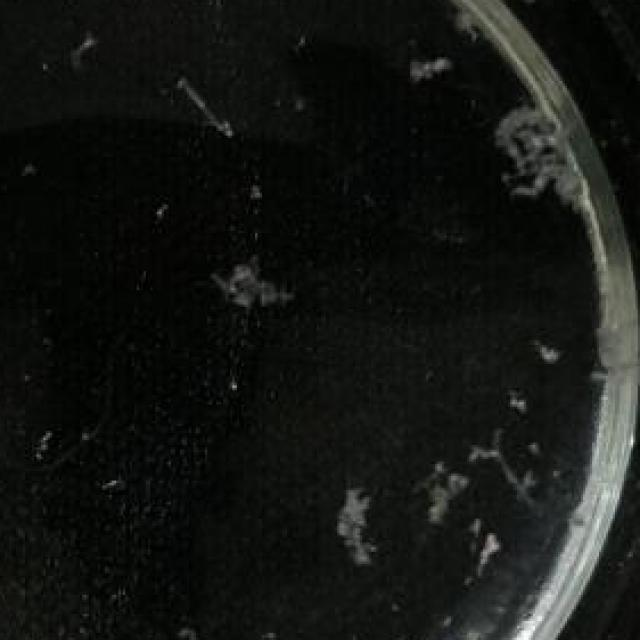Microplastic: (488, 85, 592, 224), (203, 238, 280, 340), (405, 455, 474, 559), (332, 464, 376, 599), (396, 31, 456, 112), (519, 321, 574, 388), (492, 364, 547, 431), (599, 347, 640, 421)
